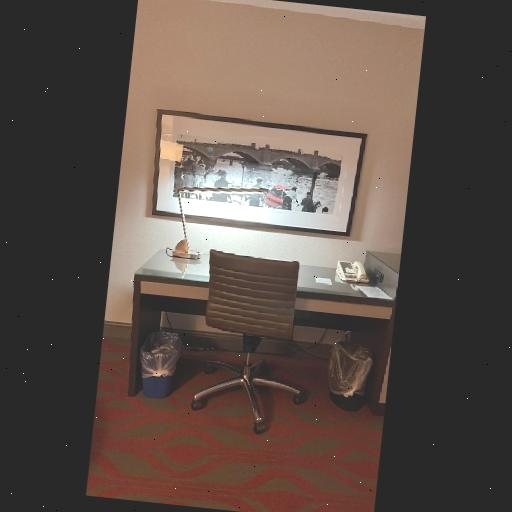chair: (188, 250, 318, 444)
organized table: (127, 241, 398, 395)
